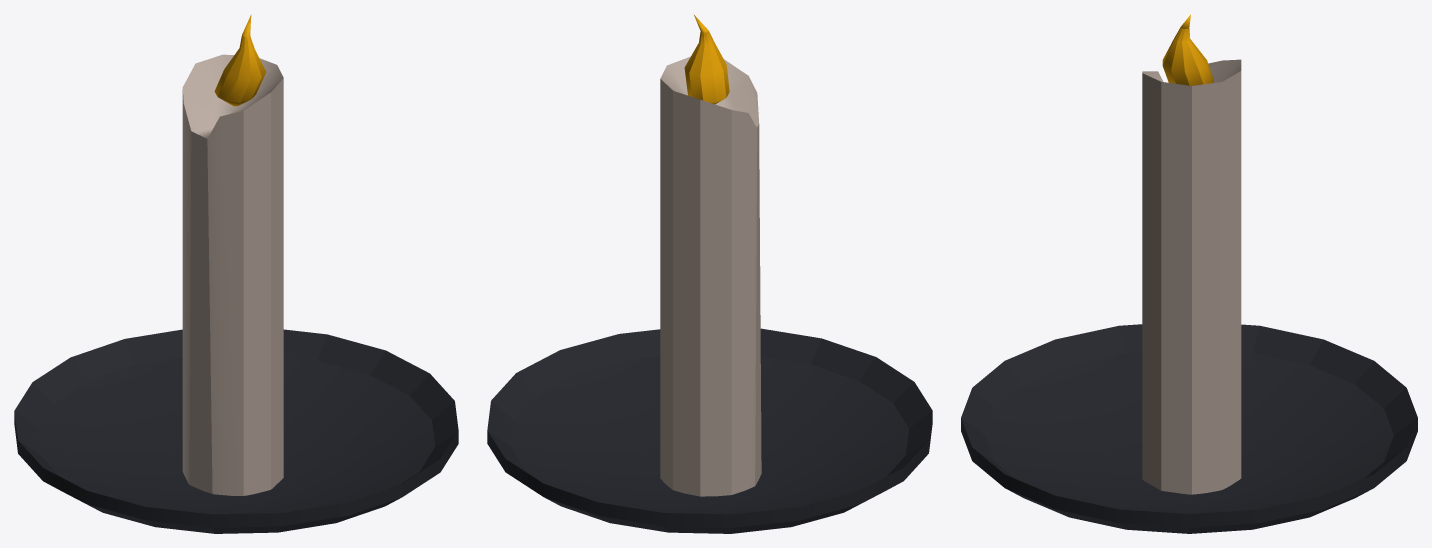
The model's file is Candle2.fbx.
The picture shows the model from 3 angles, left to right: view 1: azimuth 30°, elevation 25°; view 2: azimuth 150°, elevation 25°; view 3: azimuth 270°, elevation 25°; orthographic projection. The views are drawn at different scales.
Visible parts, largest first — view 1: pasted__pCylinder11, pasted__pCylinder9; view 2: pasted__pCylinder11, pasted__pCylinder9; view 3: pasted__pCylinder11, pasted__pCylinder9.
Part boxes in pixels (x1=…): pasted__pCylinder11: x1=14, y1=54, x2=458, y2=533; pasted__pCylinder9: x1=214, y1=14, x2=266, y2=106; pasted__pCylinder11: x1=487, y1=56, x2=932, y2=533; pasted__pCylinder9: x1=684, y1=15, x2=729, y2=104; pasted__pCylinder11: x1=961, y1=59, x2=1417, y2=533; pasted__pCylinder9: x1=1162, y1=14, x2=1213, y2=85.
Size of the model in its own units: 2.12 by 2.57 by 2.12.
